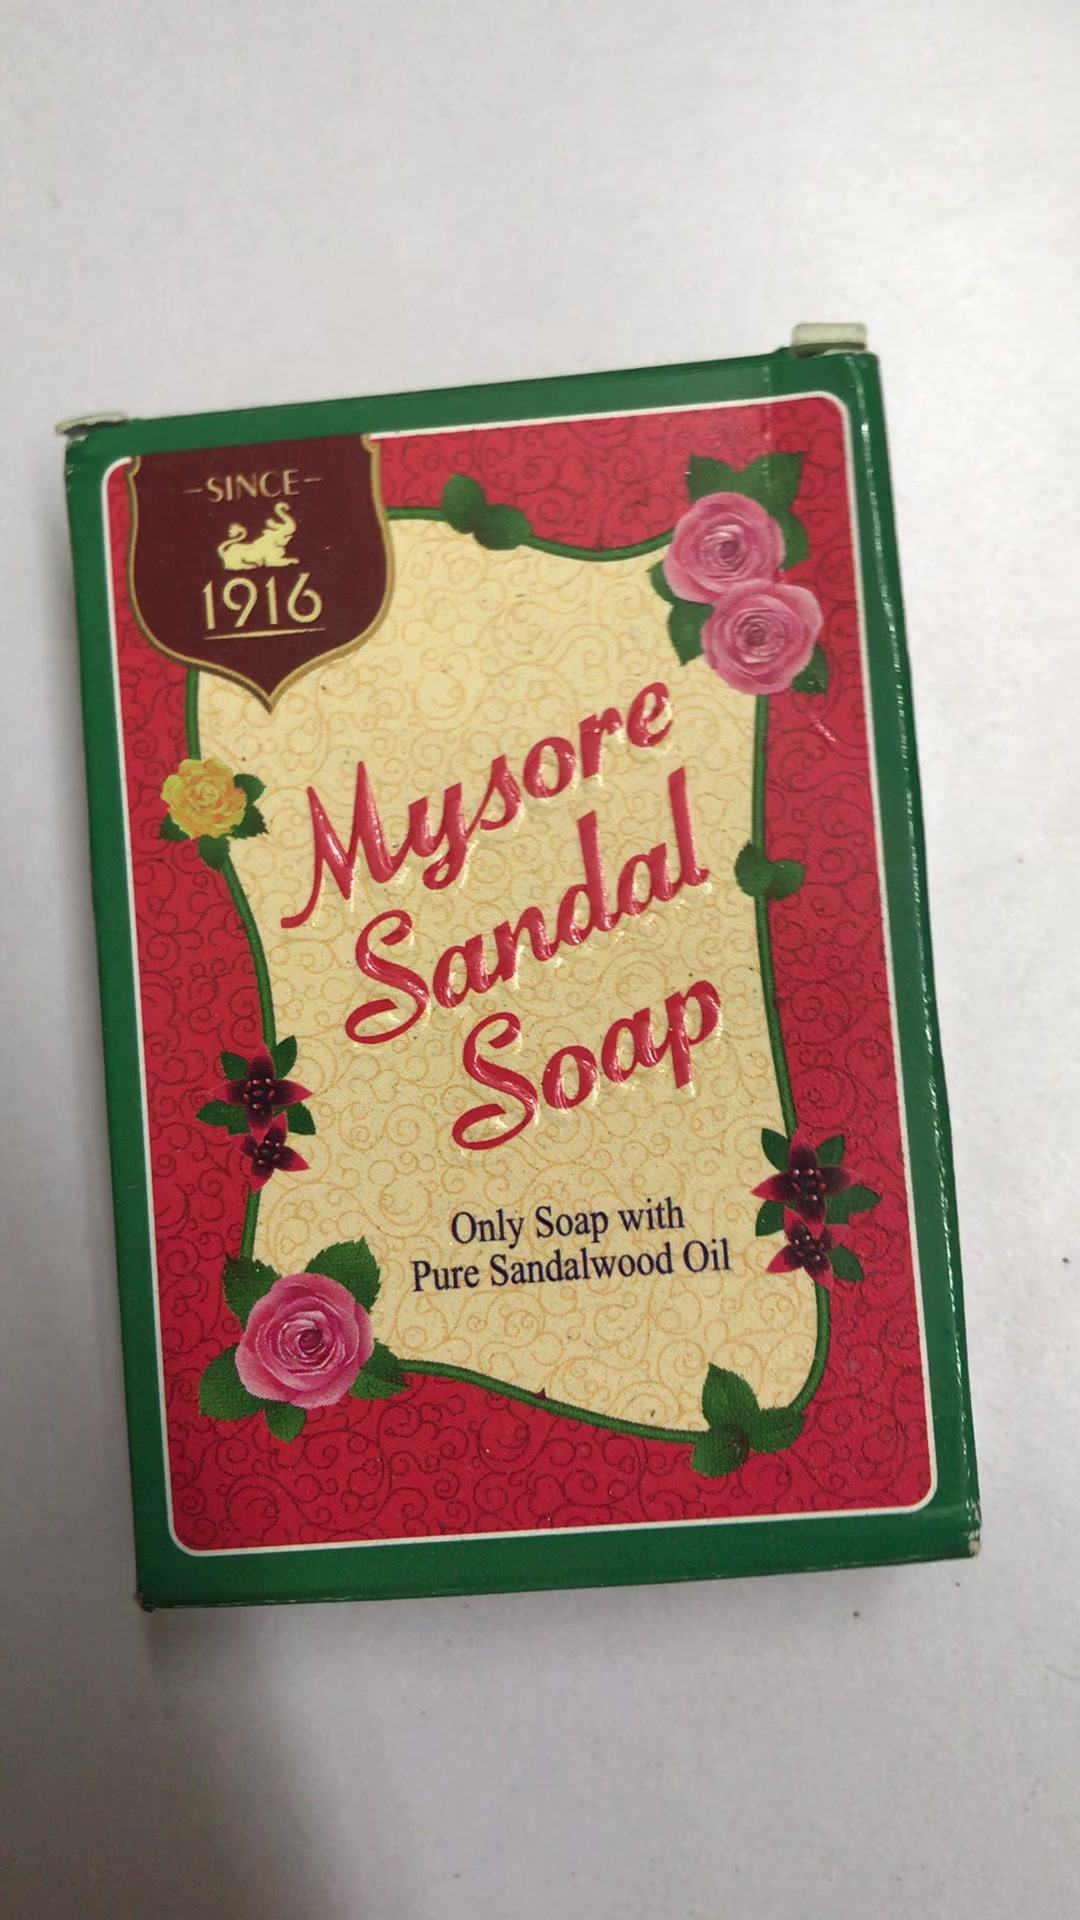mysore sandal soap: (73, 336, 978, 1613)
